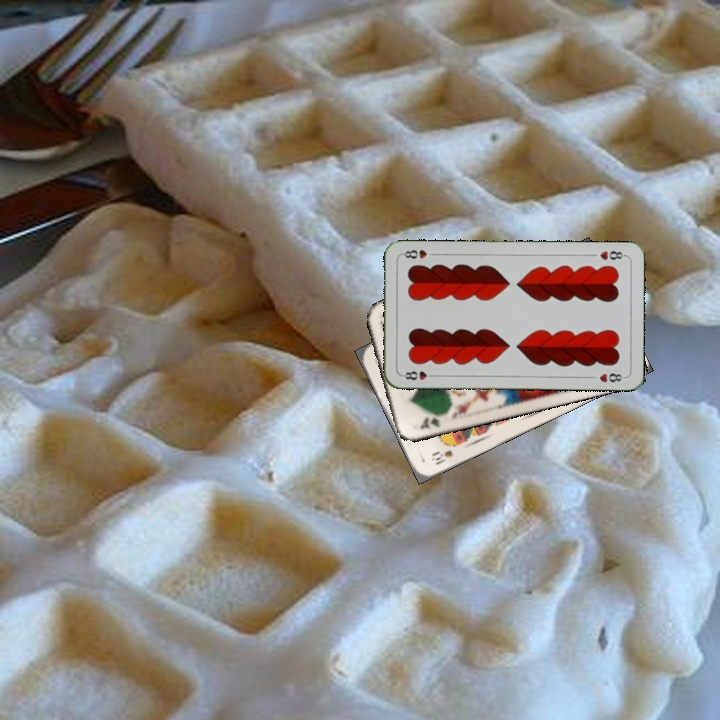GK: (416, 413, 443, 432)
H8: (398, 367, 439, 383), (596, 247, 628, 263)
S10: (427, 446, 455, 467)
